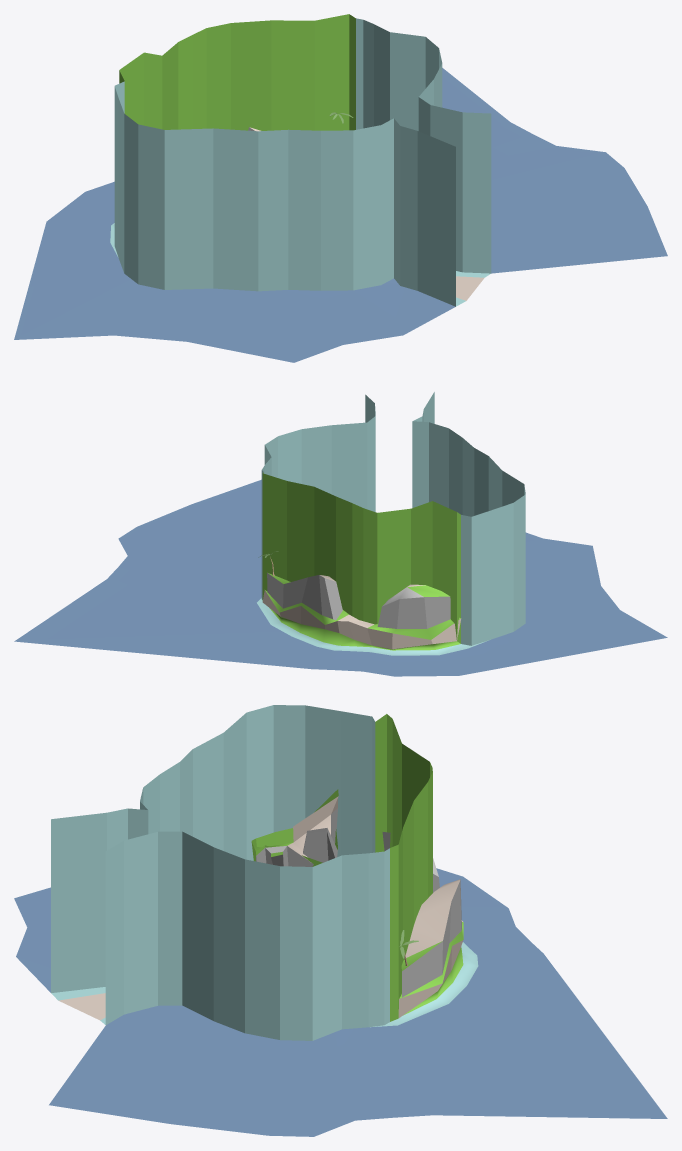
The picture shows the model from 3 angles, top to bottom: view 1: azimuth 30°, elevation 25°; view 2: azimuth 150°, elevation 25°; view 3: azimuth 270°, elevation 25°; orthographic projection. The views are drawn at different scales.
Visible parts, largest first — view 1: simple, level2; view 2: level2, simple; view 3: simple, level2.
Part boxes in pixels (x1,y1,x2,y2): simple: (114, 14, 491, 306); level2: (14, 68, 667, 362); level2: (14, 479, 667, 676); simple: (261, 392, 525, 645); simple: (51, 705, 432, 1040); level2: (14, 789, 667, 1136).
Bounding box in the file's own units: 108 × 28.64 × 88.19.
